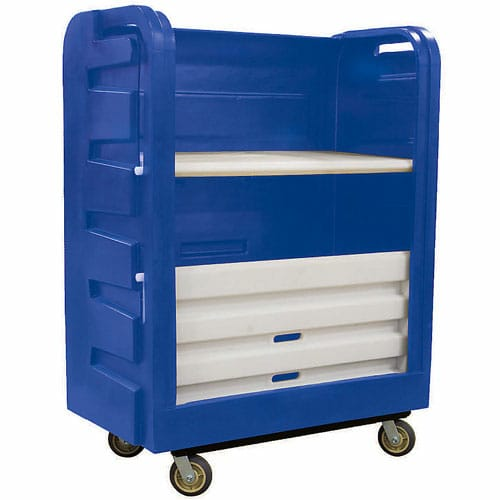Carts: (62, 5, 441, 496)
